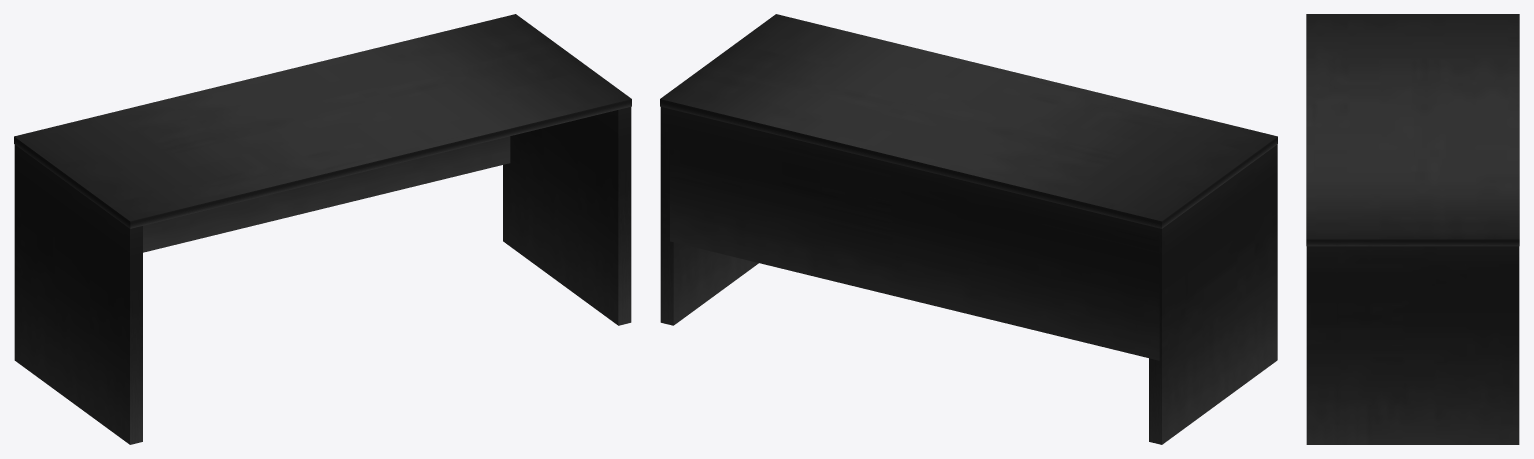
The model's file is DESK_02.fbx.
The picture shows the model from 3 angles, left to right: view 1: azimuth 30°, elevation 25°; view 2: azimuth 150°, elevation 25°; view 3: azimuth 270°, elevation 25°; orthographic projection. The views are drawn at different scales.
Visible parts, largest first — view 1: DESK_02; view 2: DESK_02; view 3: DESK_02.
Boxes of the visible parts, x1,y1,x2,y2 form: DESK_02: [14, 14, 631, 444]; DESK_02: [660, 14, 1277, 444]; DESK_02: [1306, 14, 1519, 444].
Size of the model in its own units: 208 by 88.72 by 83.44.
